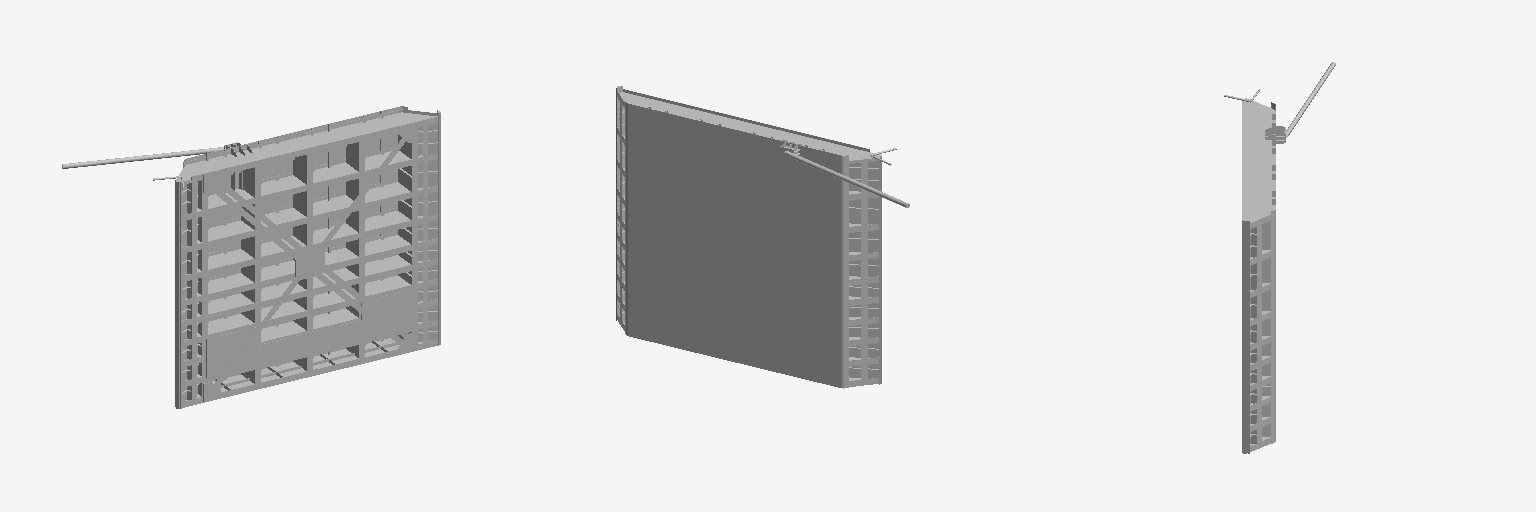
The model's file is 无标题.obj.
3 renders of one model, left to right at view 1: azimuth 30°, elevation 25°; view 2: azimuth 150°, elevation 25°; view 3: azimuth 270°, elevation 25°, orthographic.
Visible parts, largest first — view 1: 3d_材质; view 2: 3d_材质; view 3: 3d_材质.
Part boxes in pixels (x1,y1,x2,y2): 3d_材质: (62,106,440,408); 3d_材质: (616,86,909,388); 3d_材质: (1224,62,1335,453).
Size of the model in its own units: 173 by 115 by 50.07.